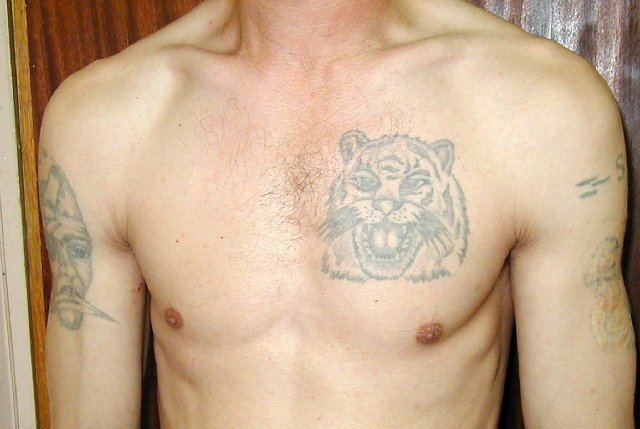tatu3_bukva: (613, 142, 629, 185)
tatu5_tigr: (319, 128, 471, 289)
